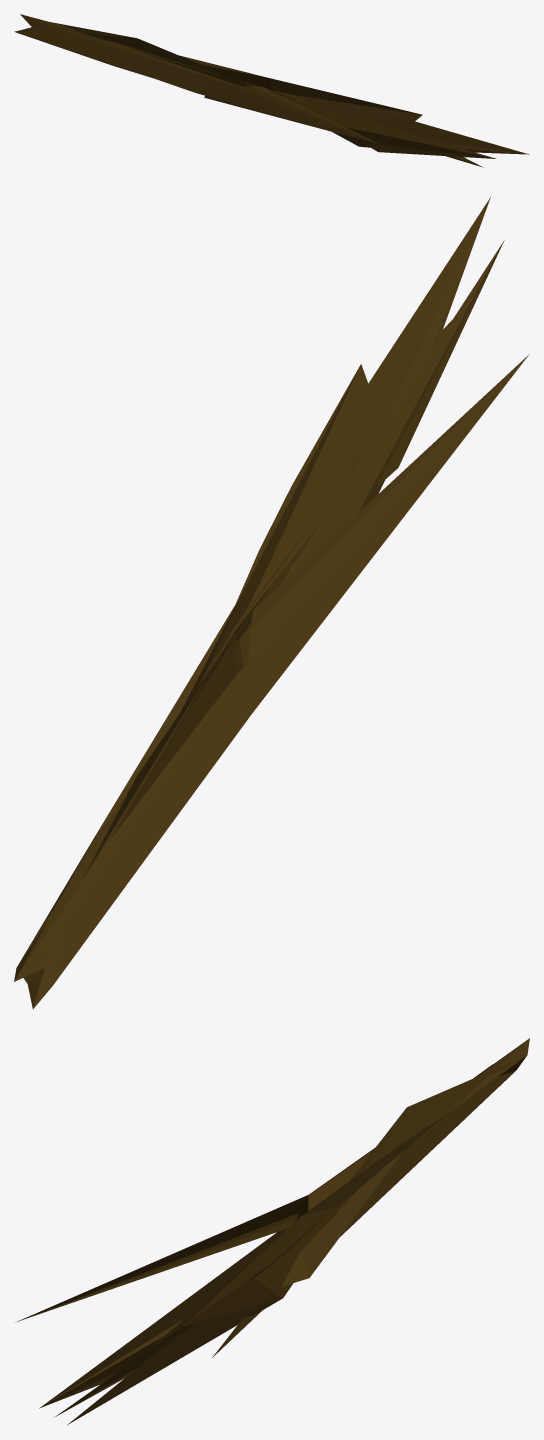
The model's file is Rasnting.fbx.
3 views of the same model, one above another, from view 1: azimuth 30°, elevation 25°; view 2: azimuth 150°, elevation 25°; view 3: azimuth 330°, elevation 25° (orthographic). The views are drawn at different scales.
Visible parts, largest first — view 1: Icosphere; view 2: Icosphere; view 3: Icosphere.
Part boxes in pixels (x1,y1,x2,y2): Icosphere: (14, 14, 529, 167); Icosphere: (14, 197, 529, 1008); Icosphere: (15, 1038, 529, 1424).
Size of the model in its own units: 126 by 107 by 607.
